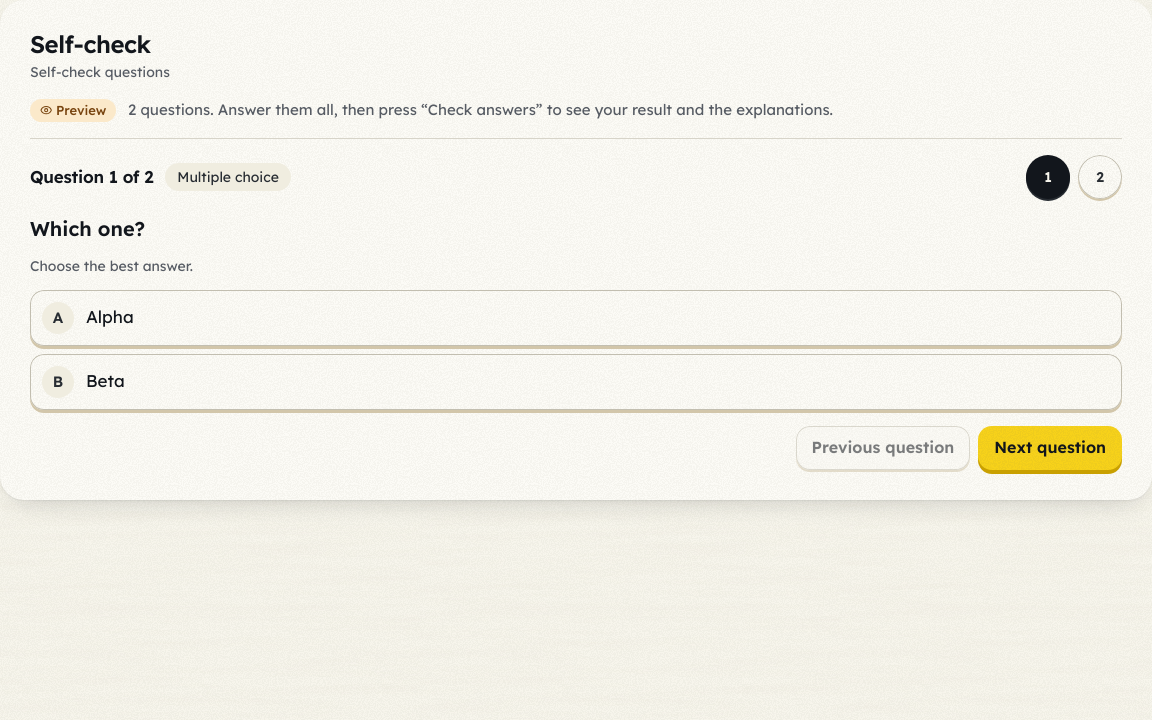
Test: QuizBlock learner view › shows only approved questions and scores the studio preview locally, without any request
This screenshot has width=1152, height=720.
expect the text "Preview" is shown: met, box [30,99,116,122]
Click the radio button labelled "B Beta" at (58, 382), box [30,354,1122,410]
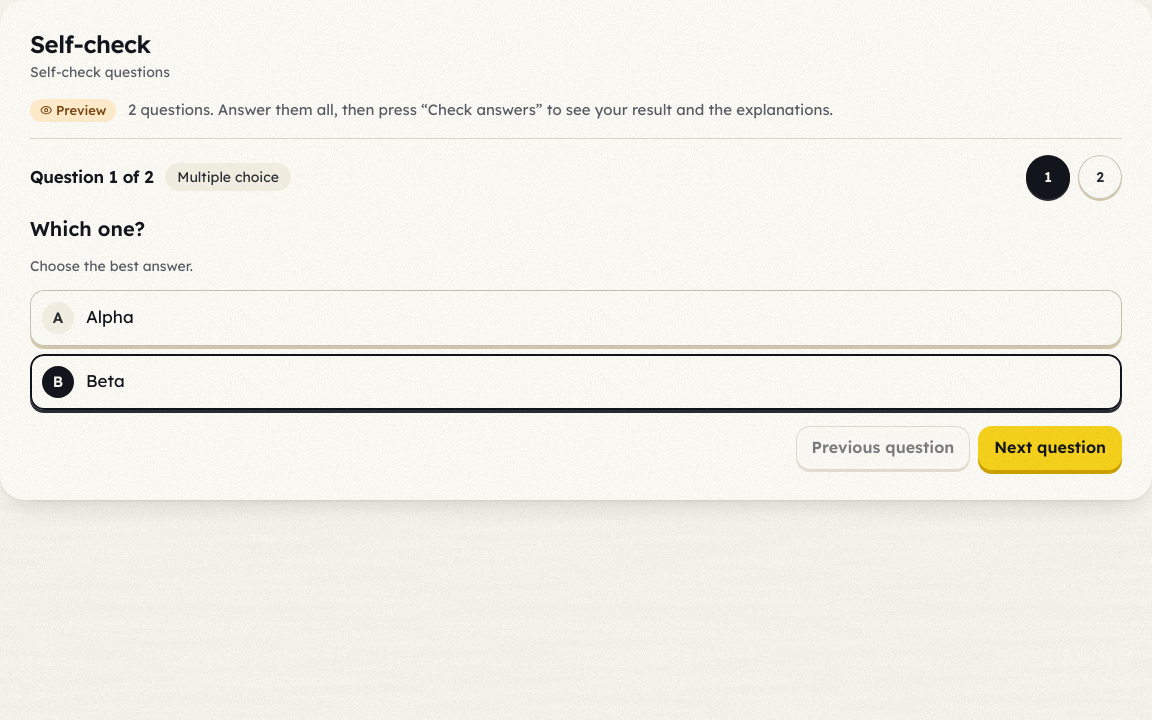
Click the button "Next question" at (1050, 448), box [978,426,1122,470]
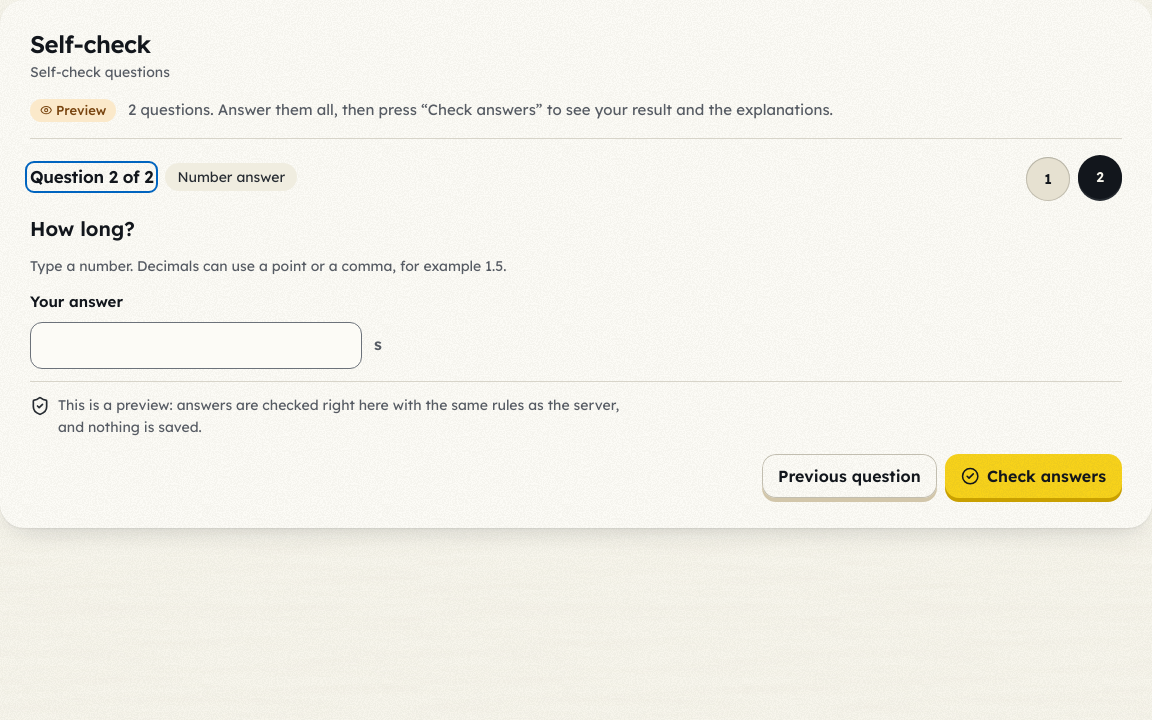
Type "2,05" into the field labelled "Your answer" at (196, 345), box [30,322,362,368]
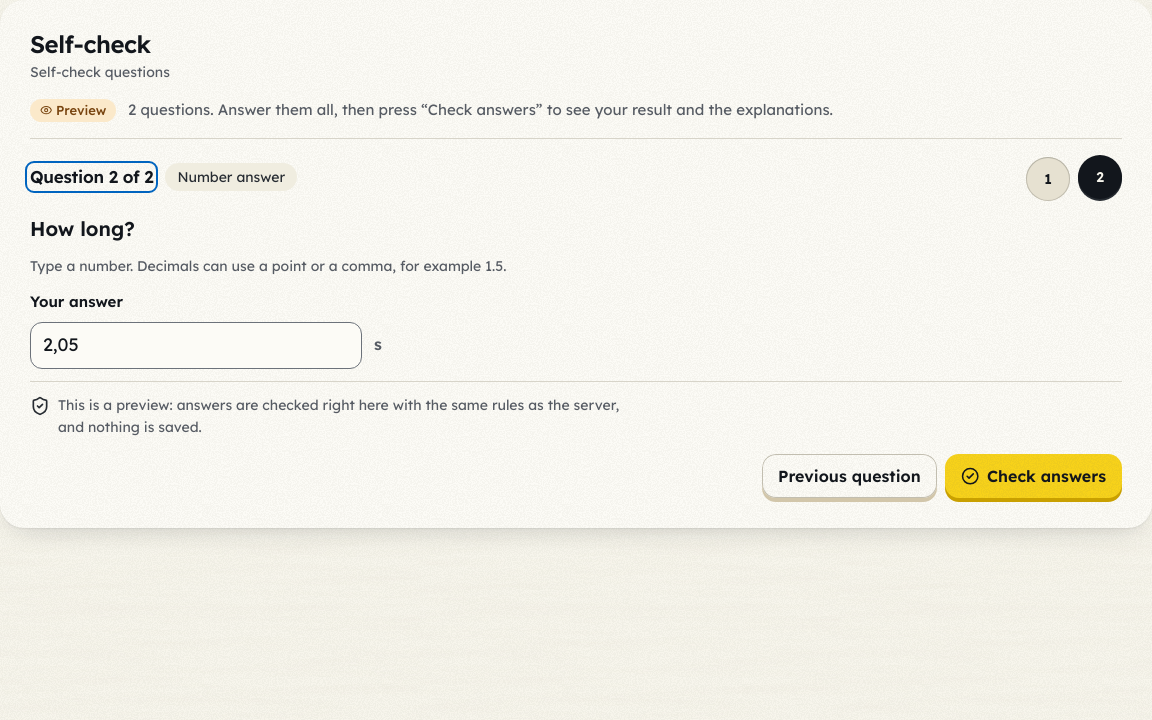
Click the button "Check answers" at (1033, 476), box [945,454,1122,498]
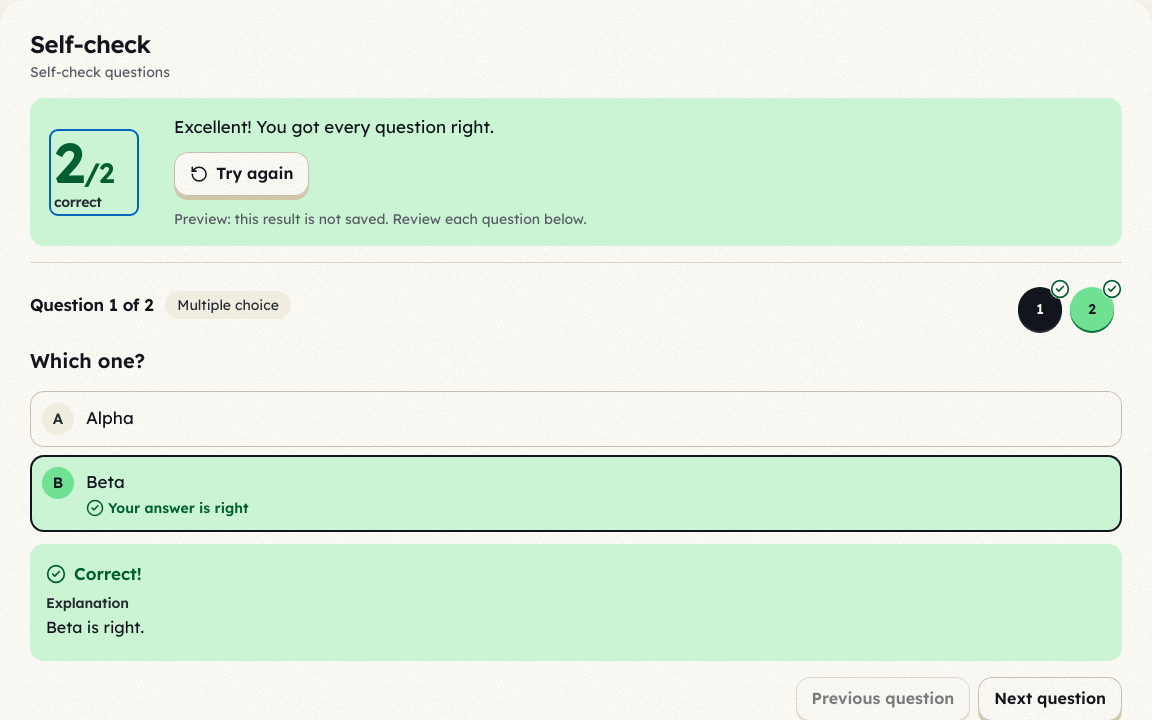
expect the text "Preview: this result is not saved." is shown: met, box [174,210,388,228]
